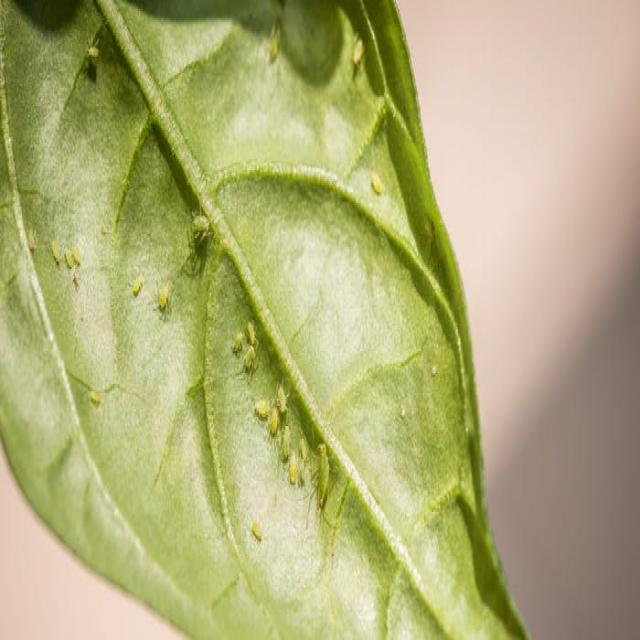Aphid-Grown-: (187, 202, 231, 265), (347, 24, 371, 79), (83, 382, 109, 420), (272, 372, 292, 419), (276, 416, 294, 466), (249, 509, 266, 555), (82, 28, 101, 67), (46, 231, 63, 273), (367, 164, 386, 200), (252, 389, 272, 423), (156, 276, 171, 318), (245, 311, 261, 349), (286, 452, 300, 490), (241, 345, 257, 377), (62, 237, 74, 278), (71, 239, 85, 274), (131, 272, 146, 303), (229, 328, 244, 358)
